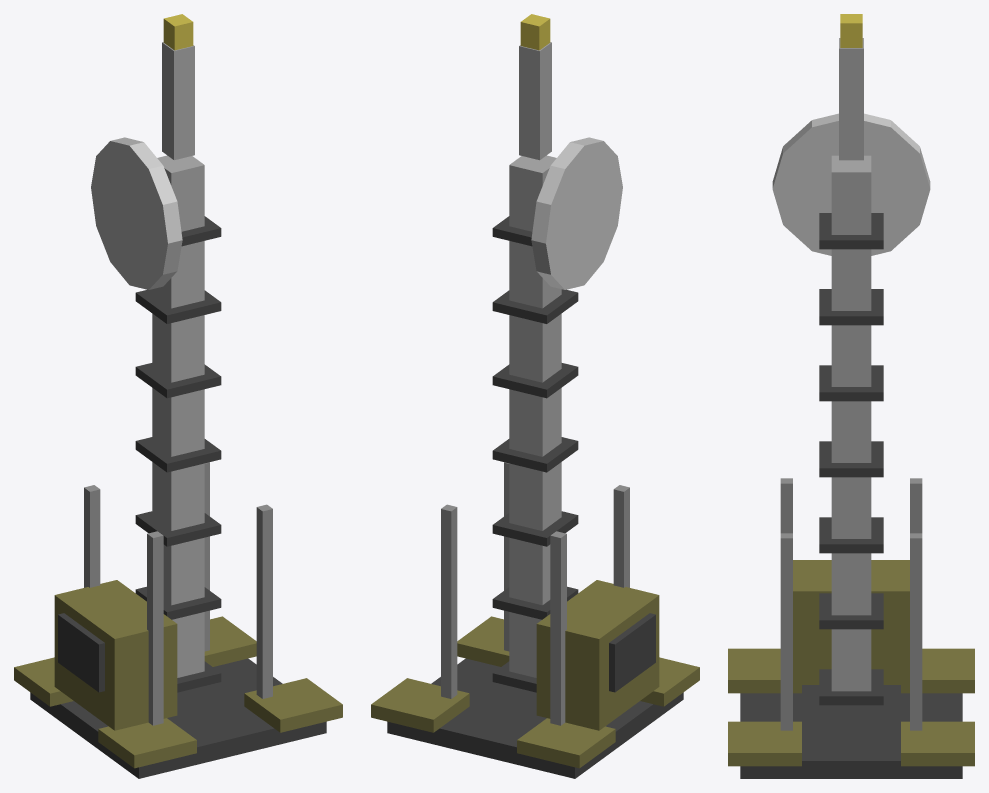
File: SM_SurvivalRadioMast.glb
3 views of the same model, side by side, from view 1: azimuth 30°, elevation 25°; view 2: azimuth 150°, elevation 25°; view 3: azimuth 270°, elevation 25° (orthographic). The views are drawn at different scales.
Visible parts, largest first — view 1: radio_box, dish, pad, mast_top, foot2, stay2, foot3, stay3, lattice2, lattice4, lattice3, radio_face (+16 smaller); view 2: radio_box, dish, pad, mast_top, foot1, stay1, foot0, stay0, lattice2, lattice4, lattice3, radio_face (+16 smaller); view 3: pad, dish, radio_box, foot1, foot2, lattice6, mast_top, lattice0, lattice1, stay1, stay2, lattice2 (+15 smaller).
Part boxes in pixels (bbox=[...]): radio_box: bbox=[54, 580, 177, 730]; dish: bbox=[91, 137, 182, 289]; pad: bbox=[30, 658, 326, 778]; mast_top: bbox=[162, 42, 194, 160]; foot2: bbox=[244, 678, 342, 732]; stay2: bbox=[256, 504, 272, 698]; foot3: bbox=[98, 718, 196, 768]; stay3: bbox=[147, 531, 163, 725]; lattice2: bbox=[152, 462, 204, 530]; lattice4: bbox=[152, 313, 204, 382]; lattice3: bbox=[152, 388, 204, 456]; radio_face: bbox=[58, 613, 104, 692]; radio_box: bbox=[536, 580, 659, 730]; dish: bbox=[531, 137, 622, 289]; pad: bbox=[387, 658, 683, 778]; mast_top: bbox=[519, 42, 551, 160]; foot1: bbox=[371, 678, 469, 732]; stay1: bbox=[441, 504, 457, 698]; foot0: bbox=[517, 718, 615, 768]; stay0: bbox=[550, 531, 566, 725]; lattice2: bbox=[509, 462, 561, 530]; lattice4: bbox=[509, 313, 561, 382]; lattice3: bbox=[509, 388, 561, 456]; radio_face: bbox=[609, 613, 655, 692]; pad: bbox=[740, 685, 962, 778]; dish: bbox=[772, 113, 930, 255]; radio_box: bbox=[793, 560, 909, 684]; foot1: bbox=[901, 721, 974, 766]; foot2: bbox=[728, 721, 801, 766]; lattice6: bbox=[831, 155, 871, 234]; mast_top: bbox=[839, 38, 863, 160]; lattice0: bbox=[831, 629, 871, 691]; lattice1: bbox=[831, 553, 871, 615]; stay1: bbox=[910, 533, 922, 730]; stay2: bbox=[780, 533, 792, 730]; lattice2: bbox=[831, 477, 871, 538].
Size of the model in its own units: 1 by 3.19 by 1.
